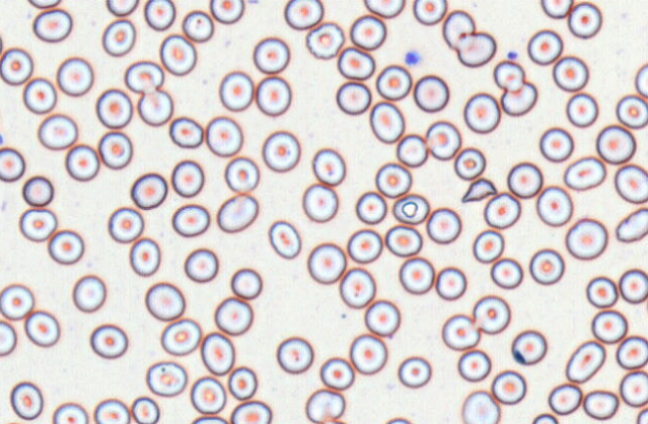PLT: (403, 49, 421, 67), (507, 50, 518, 61)
RBC: (565, 217, 608, 260), (565, 339, 606, 383), (306, 241, 346, 284), (216, 193, 258, 233), (144, 281, 185, 321), (595, 124, 636, 164), (261, 130, 300, 172), (349, 333, 387, 375), (205, 115, 243, 157), (160, 318, 201, 356), (535, 185, 573, 226), (95, 88, 133, 129), (145, 360, 187, 397), (159, 34, 196, 76), (339, 266, 376, 308), (463, 92, 500, 134), (563, 155, 606, 191), (200, 331, 235, 375), (214, 296, 253, 335), (472, 294, 510, 334), (56, 56, 94, 96), (455, 30, 496, 67), (37, 113, 78, 150), (369, 100, 404, 143), (305, 21, 344, 59), (301, 182, 338, 222), (218, 70, 254, 111), (255, 75, 291, 116), (483, 191, 521, 229), (252, 36, 290, 74), (441, 313, 480, 350), (425, 120, 461, 160), (304, 388, 345, 423), (374, 161, 412, 198), (276, 336, 313, 374), (190, 375, 226, 414), (89, 323, 128, 359), (97, 130, 133, 169), (363, 299, 400, 336), (349, 13, 386, 50), (107, 206, 144, 243), (506, 161, 543, 198), (375, 64, 412, 101), (552, 55, 589, 92), (130, 172, 167, 209), (137, 88, 173, 126), (24, 309, 60, 347), (398, 256, 434, 294), (413, 74, 449, 112), (311, 147, 346, 186), (18, 207, 57, 242), (9, 380, 43, 420), (32, 8, 72, 42), (614, 163, 648, 203), (267, 219, 301, 259), (500, 80, 537, 116), (527, 28, 563, 65), (528, 248, 564, 285), (47, 228, 84, 264), (567, 1, 602, 39), (22, 76, 57, 114), (64, 143, 99, 181), (101, 18, 136, 56), (426, 206, 461, 244), (171, 203, 210, 237), (442, 9, 475, 49), (460, 390, 500, 423), (124, 60, 164, 93), (511, 329, 547, 365), (224, 156, 259, 193), (337, 46, 375, 80), (590, 309, 628, 343), (72, 274, 106, 312), (170, 159, 204, 197), (0, 46, 33, 85), (490, 369, 526, 404), (346, 228, 382, 263), (335, 80, 371, 115), (539, 126, 574, 162), (0, 283, 34, 320), (384, 224, 422, 257), (128, 237, 160, 276), (183, 247, 218, 282), (283, 0, 323, 30), (319, 356, 354, 390), (615, 207, 648, 242), (547, 382, 582, 415), (615, 335, 648, 370), (615, 94, 648, 129), (565, 92, 598, 127), (582, 389, 619, 420), (392, 193, 429, 224), (457, 349, 491, 382), (397, 355, 431, 388), (453, 146, 486, 180), (168, 116, 203, 148), (181, 9, 214, 42), (585, 275, 618, 308), (396, 133, 428, 167), (472, 229, 504, 263), (355, 190, 387, 224), (618, 268, 648, 304), (619, 370, 648, 407), (493, 59, 525, 92), (490, 257, 523, 289), (435, 266, 466, 300), (227, 365, 257, 400), (230, 267, 262, 299), (21, 175, 53, 207), (230, 399, 272, 423), (143, 0, 176, 30), (93, 398, 130, 423), (0, 146, 25, 182), (412, 0, 447, 25), (209, 0, 244, 24), (51, 401, 88, 423), (130, 396, 160, 423), (363, 0, 405, 18), (0, 319, 17, 356), (540, 0, 573, 18), (105, 0, 139, 16), (634, 62, 648, 98), (190, 414, 228, 423), (531, 412, 558, 423), (26, 0, 62, 8), (384, 416, 413, 424), (318, 418, 349, 424), (636, 407, 647, 423), (0, 28, 3, 58)
Schistocyte: (460, 178, 499, 204)
